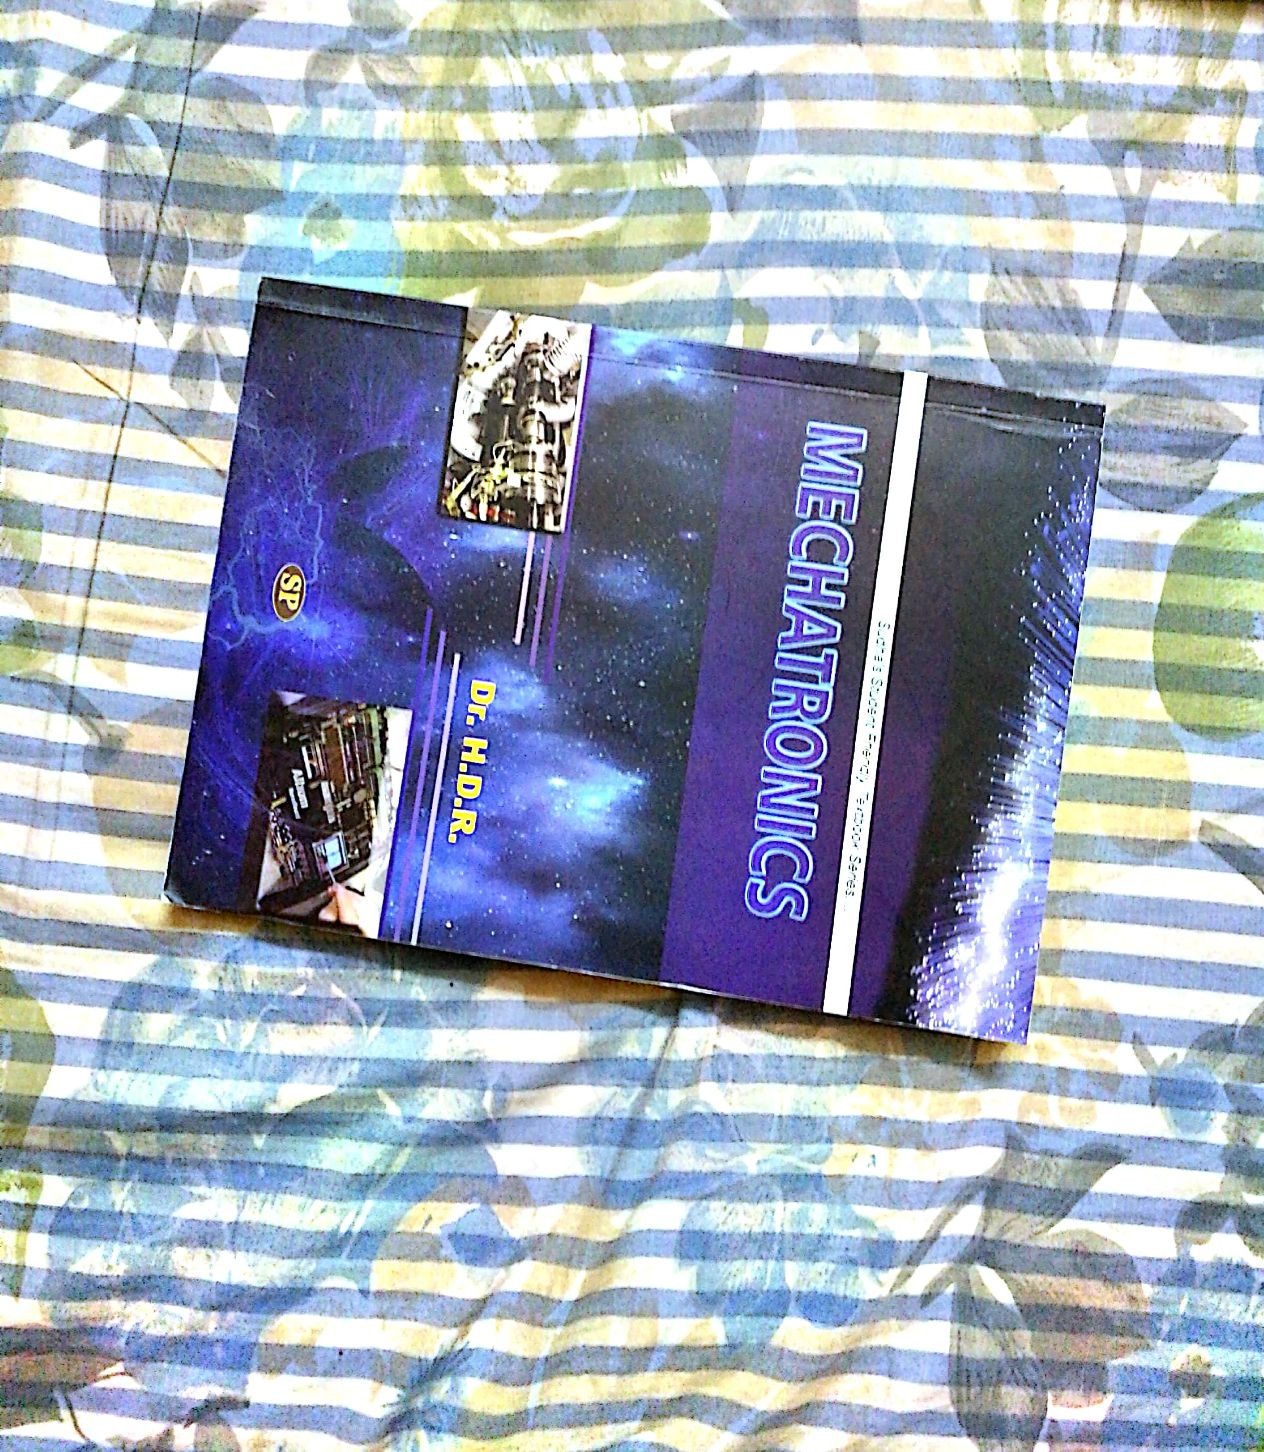mechatronics: (142, 249, 1171, 1087)
